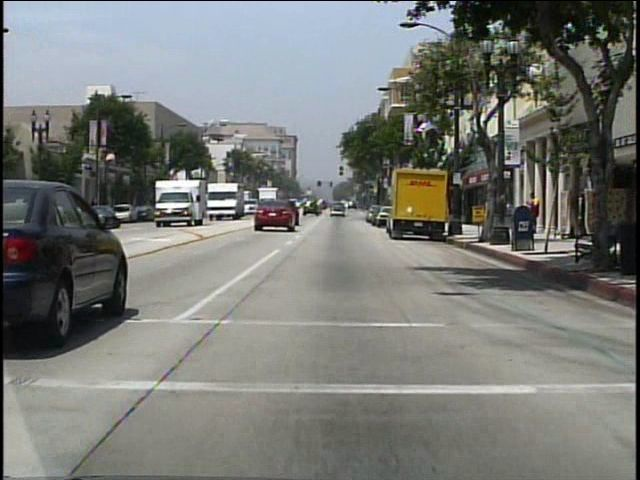person: (527, 191, 540, 220)
